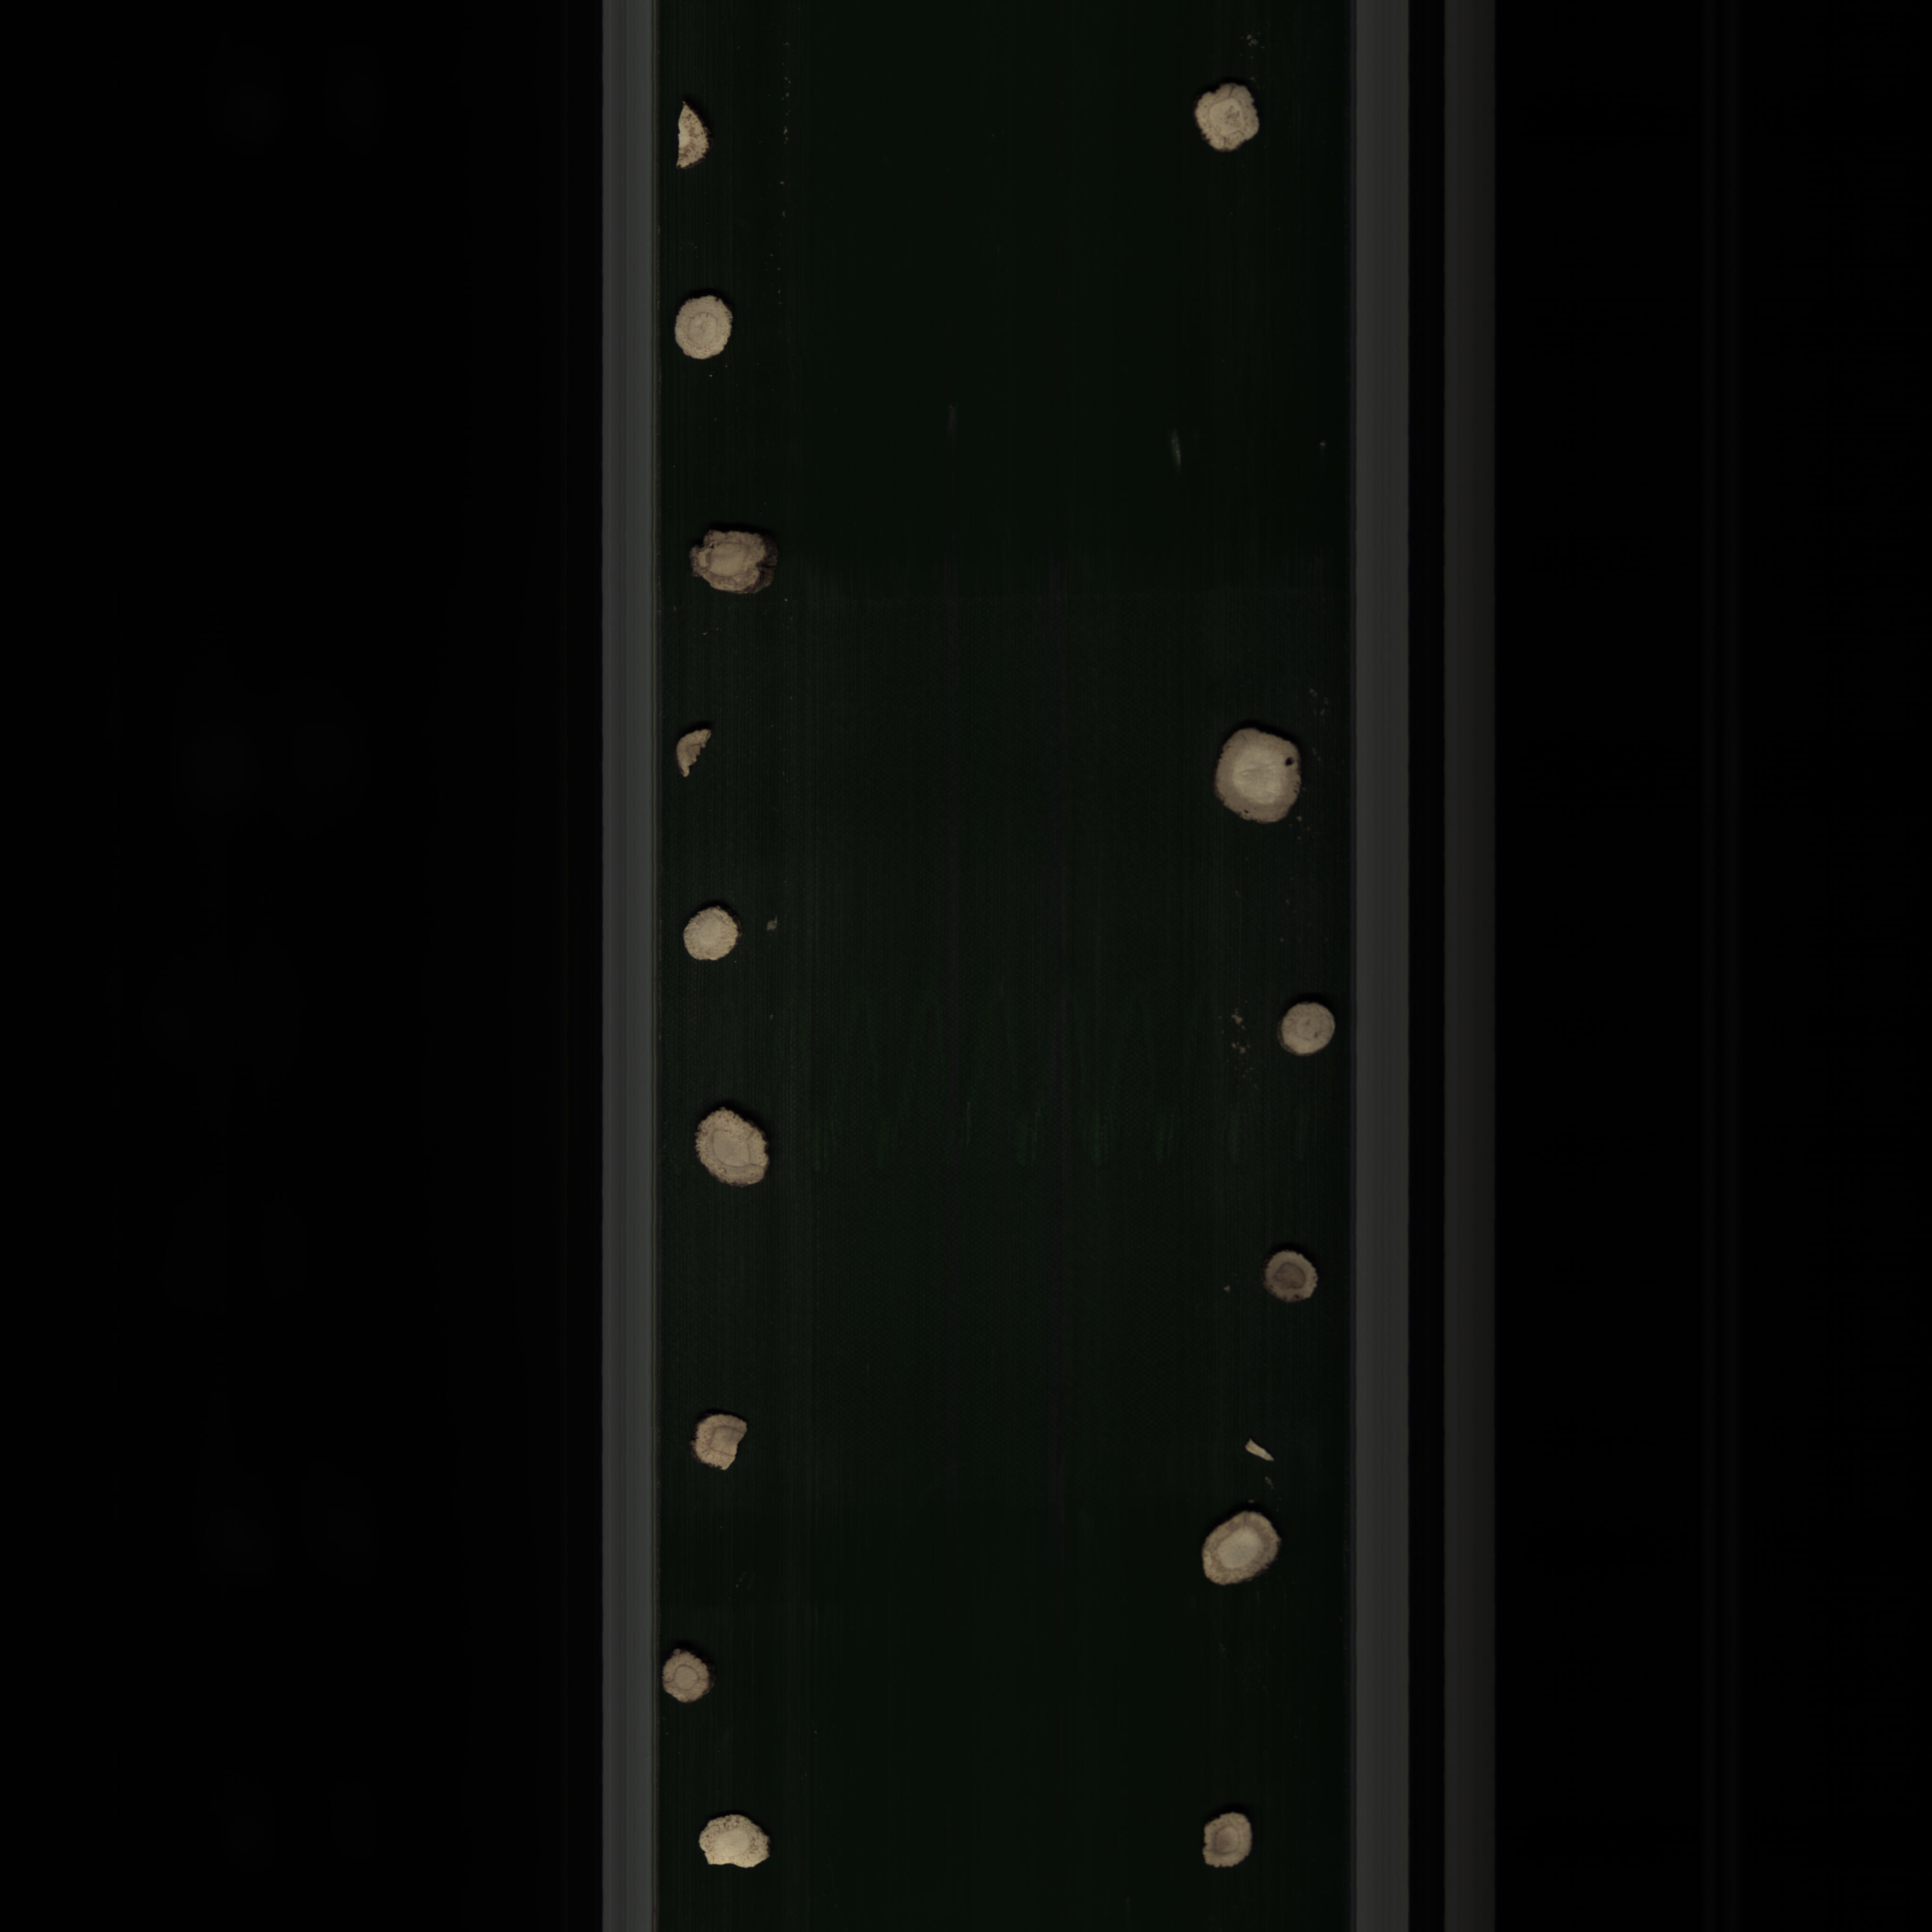bark: (686, 520, 777, 612)
debris: (665, 83, 722, 180), (694, 1810, 777, 1874), (690, 1407, 761, 1479), (671, 718, 720, 786), (1238, 1431, 1284, 1477)
distortion: (1192, 1803, 1261, 1877)
hole: (1207, 724, 1304, 828)
moldy: (1261, 1244, 1329, 1311)
